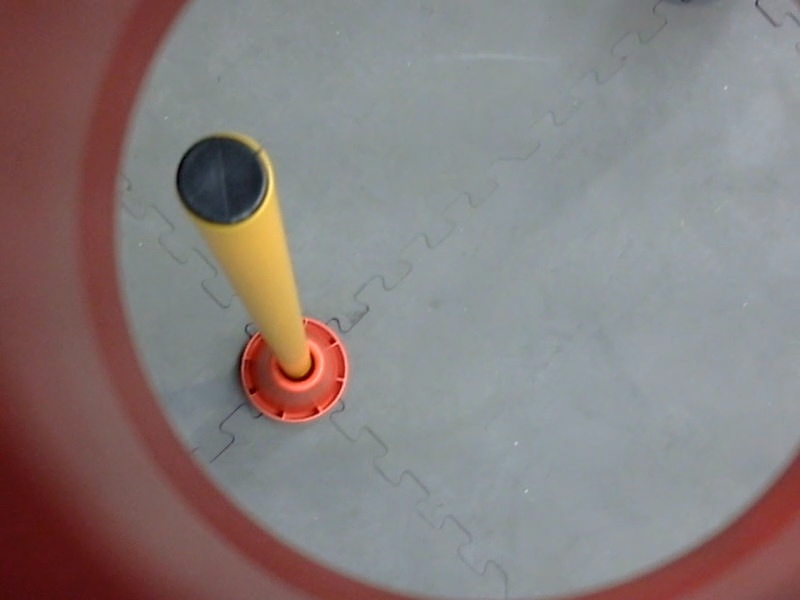tip: (169, 123, 277, 236)
